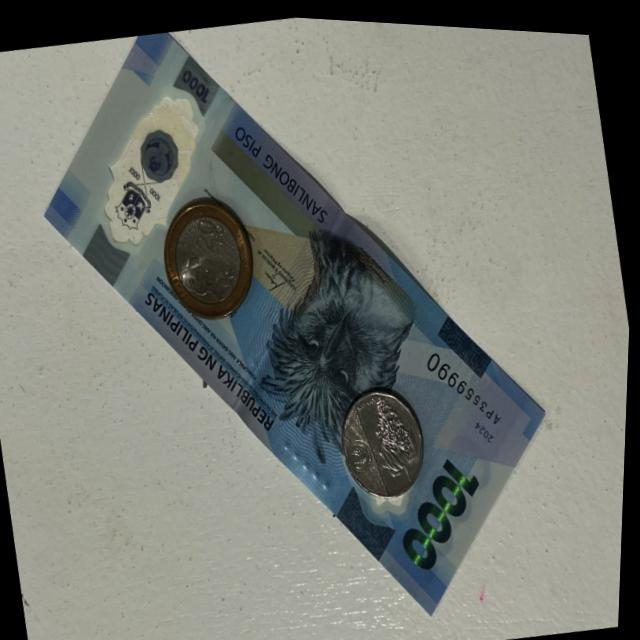10_New_Back: (360, 372, 432, 489)
20_New_Front: (190, 209, 235, 256)
security_thread: (226, 191, 343, 407)
serial_number: (421, 329, 513, 434)
